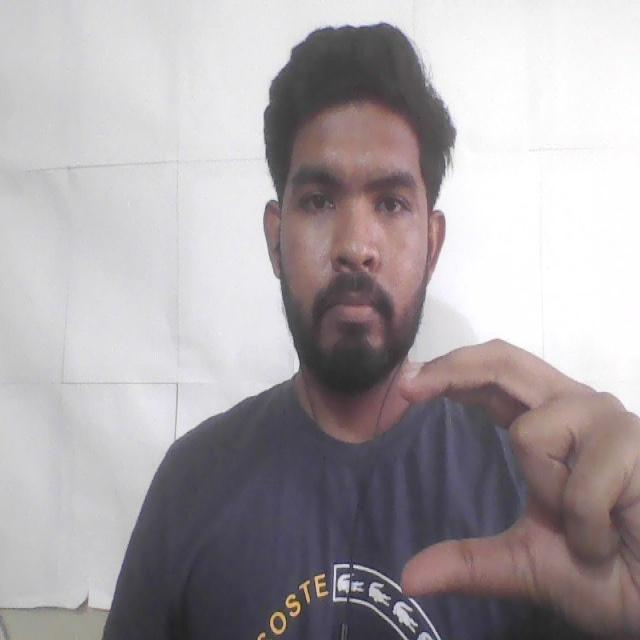No: (378, 317, 640, 640)
